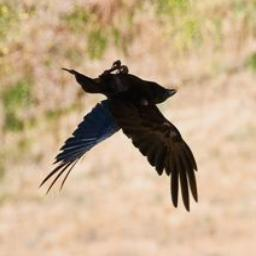Crow: (36, 60, 202, 215)
